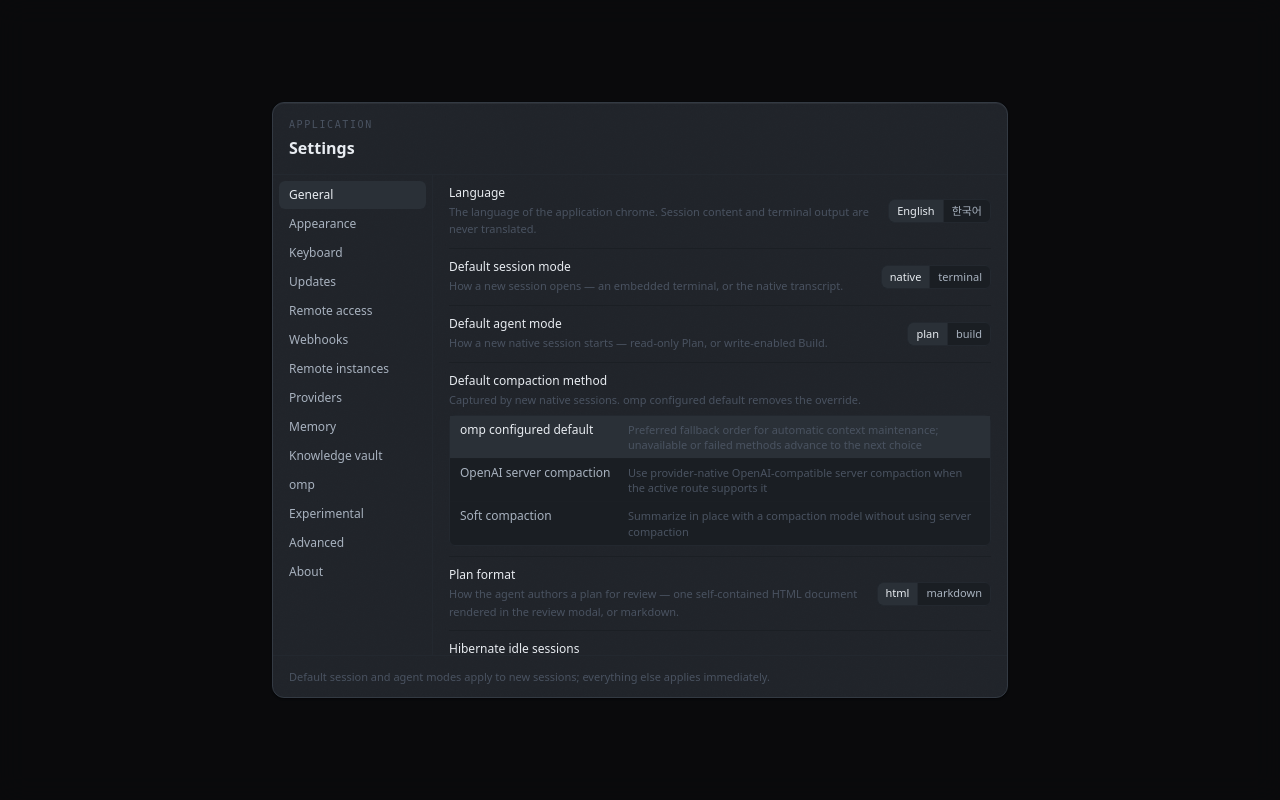
Test case: Settings General page language row (issues #363, #367) › shows the persisted locale and persists a switch to Korean
The width and height of the screenshot is (1280, 800).
Click the button "한국어" at (967, 211), box [944,200,990,222]
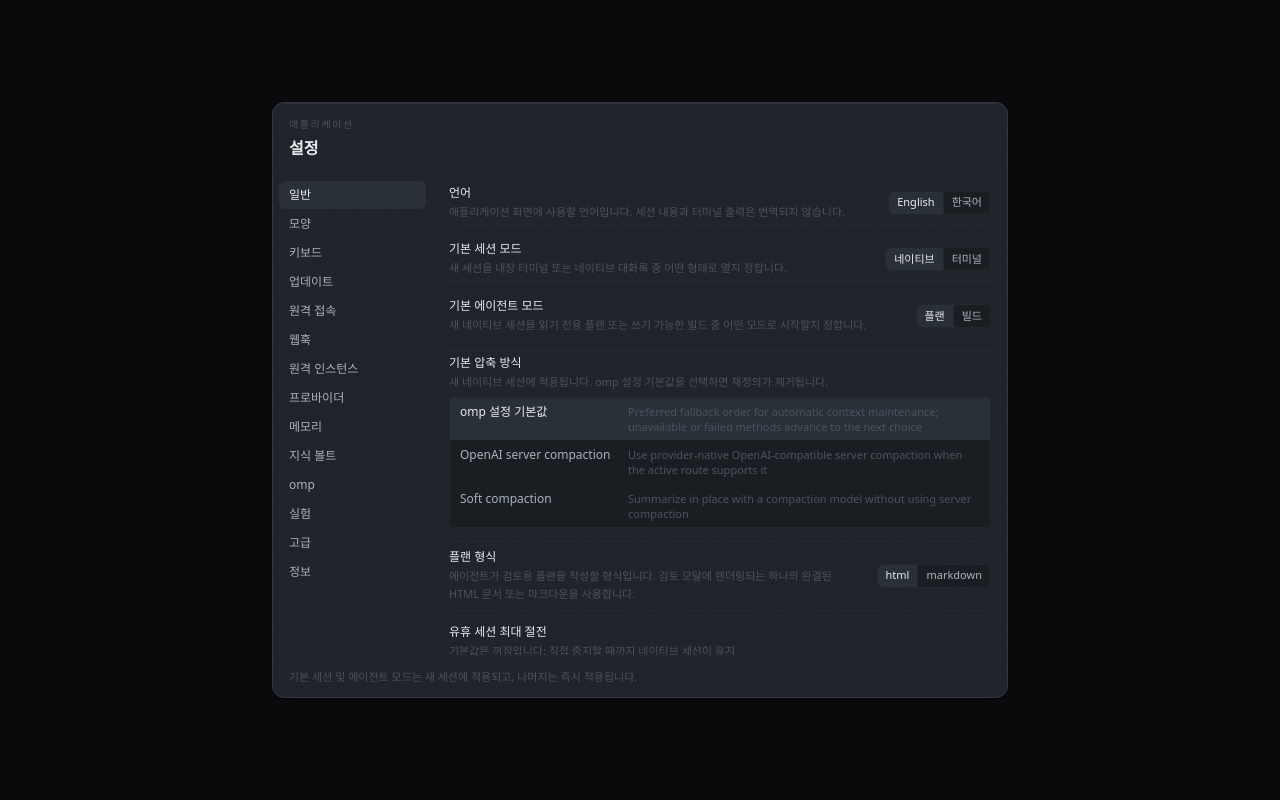
Check: the button "일반" is shown, box [279,181,426,209]
Check: the heading with id "settings-title" reads "설정", box [289,137,318,159]
